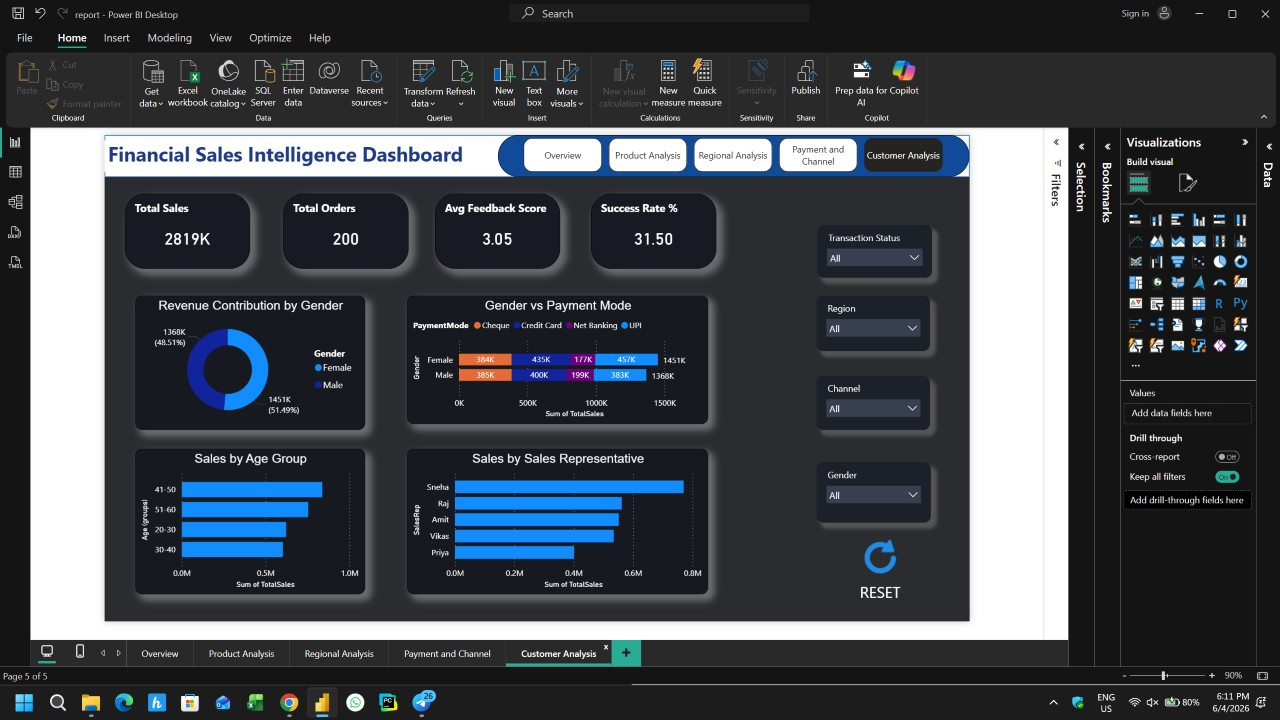

Layout of this report page (visuals, bound fields, positions):
{"tool":"powerbi","page":{"name":"Customer Analysis","canvas":[1280,720],"ordinal":4},"visuals":[{"type":"slicer","fields":{"Values":["Reliance_Finance_Sales_Dataset.TransactionStatus"]},"box":[1054.1,133.3,170,77.8],"z":2000},{"type":"actionButton","box":[1012.2,586.7,174.4,101.1],"z":4000},{"type":"card","title":"Total Sales","fields":{"Values":["Sum(Reliance_Finance_Sales_Dataset.TotalSales)"]},"box":[30,86.7,185.6,111.1],"z":5000},{"type":"card","title":"Total Orders","fields":{"Values":["CountNonNull(Reliance_Finance_Sales_Dataset.OrderID)"]},"box":[264.4,86.7,185.6,111.1],"z":6000},{"type":"slicer","fields":{"Values":["Reliance_Finance_Sales_Dataset.Gender"]},"box":[1053.3,485,169,89.5],"z":7000},{"type":"card","title":"Avg Feedback Score","fields":{"Values":["Avg(Reliance_Finance_Sales_Dataset.FeedbackScore)"]},"box":[488.9,86.7,185.6,111.1],"z":8000},{"type":"slicer","fields":{"Values":["Reliance_Finance_Sales_Dataset.Channel"]},"box":[1053.3,356.5,168,80],"z":9000},{"type":"card","title":"Success Rate %","fields":{"Values":["_Measures.Success Rate %"]},"box":[720,86.7,185.6,111.1],"z":10000},{"type":"slicer","fields":{"Values":["Reliance_Finance_Sales_Dataset.Region"]},"box":[1053.3,237.5,168,82.1],"z":11000},{"type":"donutChart","title":"Revenue Contribution by Gender","fields":{"Category":["Reliance_Finance_Sales_Dataset.Gender"],"Y":["Sum(Reliance_Finance_Sales_Dataset.TotalSales)"]},"box":[45.6,237.8,340,198.9],"z":12000},{"type":"barChart","title":"Gender vs Payment Mode","fields":{"Category":["Reliance_Finance_Sales_Dataset.Gender"],"Series":["Reliance_Finance_Sales_Dataset.PaymentMode"],"Y":["Sum(Reliance_Finance_Sales_Dataset.TotalSales)"]},"box":[447.8,237.8,445.6,190],"z":14000},{"type":"clusteredBarChart","title":"Sales by Sales Representative","fields":{"Category":["Reliance_Finance_Sales_Dataset.SalesRep"],"Y":["Sum(Reliance_Finance_Sales_Dataset.TotalSales)"]},"box":[447.8,464.4,445.6,215.6],"z":15000},{"type":"clusteredBarChart","title":"Sales by Age Group","fields":{"Y":["Sum(Reliance_Finance_Sales_Dataset.TotalSales)"],"Category":["Reliance_Finance_Sales_Dataset.Age (groups)"]},"box":[45.6,464.4,340,215.6],"z":16000},{"type":"shape","box":[0,0,1280,62.1],"z":16001},{"type":"shape","box":[582.6,0,697.4,62.1],"z":16002},{"type":"textbox","title":"Financial Sales Intelligence Dashboard","box":[0,8.2,555.6,46.9],"z":16003},{"type":"pageNavigator","box":[620.1,4.7,622.4,50.4],"z":16004}]}

Visuals, with their boxes on the page's 1280x720 design canvas (x1, y1, x2, y2). These are canvas units, not pixel positions in the 1280x720 screenshot, which may show the page scaled, cropped or inside an application window:
slicer - Reliance_Finance_Sales_Dataset.TransactionStatus: [left=1054, top=133, right=1224, bottom=211]
actionButton: [left=1012, top=587, right=1187, bottom=688]
"Total Sales" card: [left=30, top=87, right=216, bottom=198]
"Total Orders" card: [left=264, top=87, right=450, bottom=198]
slicer - Reliance_Finance_Sales_Dataset.Gender: [left=1053, top=485, right=1222, bottom=574]
"Avg Feedback Score" card: [left=489, top=87, right=674, bottom=198]
slicer - Reliance_Finance_Sales_Dataset.Channel: [left=1053, top=356, right=1221, bottom=436]
"Success Rate %" card: [left=720, top=87, right=906, bottom=198]
slicer - Reliance_Finance_Sales_Dataset.Region: [left=1053, top=238, right=1221, bottom=320]
"Revenue Contribution by Gender" donutChart: [left=46, top=238, right=386, bottom=437]
"Gender vs Payment Mode" barChart: [left=448, top=238, right=893, bottom=428]
"Sales by Sales Representative" clusteredBarChart: [left=448, top=464, right=893, bottom=680]
"Sales by Age Group" clusteredBarChart: [left=46, top=464, right=386, bottom=680]
shape: [left=0, top=0, right=1280, bottom=62]
shape: [left=583, top=0, right=1280, bottom=62]
"Financial Sales Intelligence Dashboard" textbox: [left=0, top=8, right=556, bottom=55]
pageNavigator: [left=620, top=5, right=1242, bottom=55]
